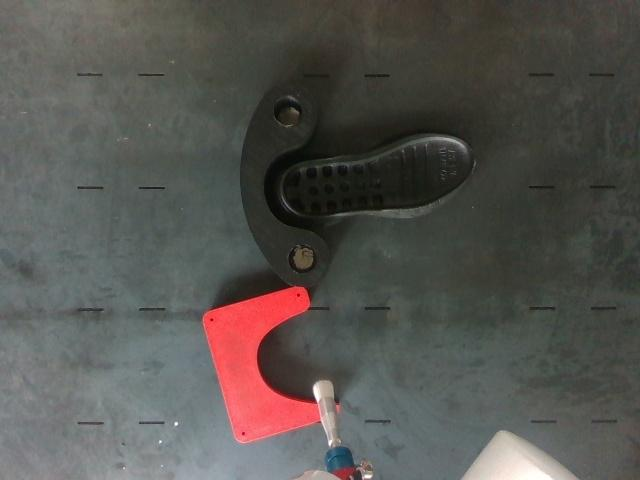shoes: (282, 137, 474, 216)
